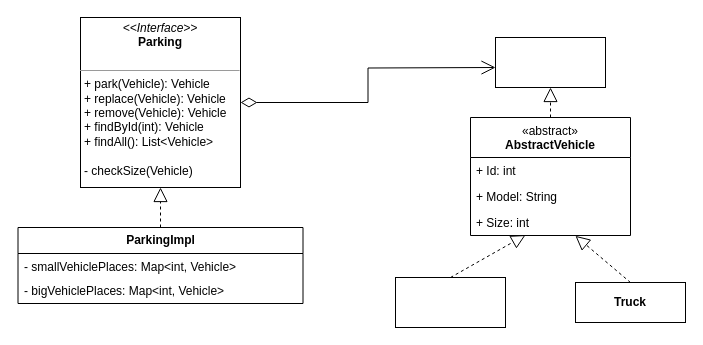
Some shapes in this 703 by 345 pixel diagram are drawn without their labels. The centre of each missing label's shape, as x and y in pixels:
"PassengerVehicle" goes at (x=450, y=302).
"«interface» Vehicle" goes at (x=550, y=62).
